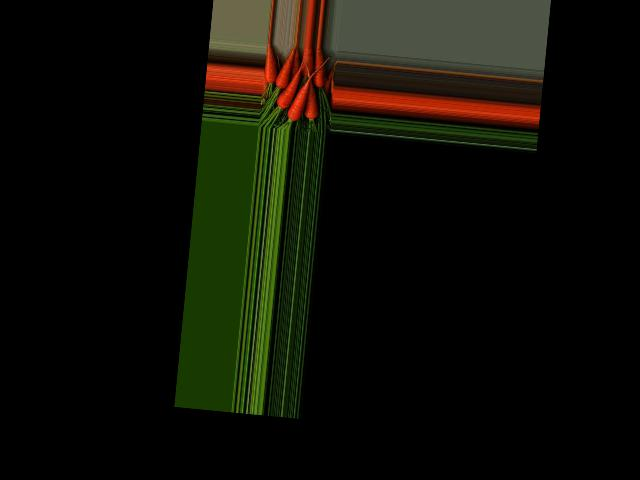carrot: (264, 42, 275, 84)
